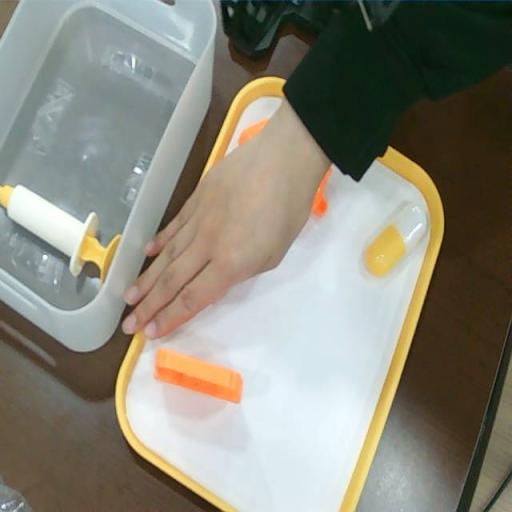hospital: (122, 150, 316, 342)
